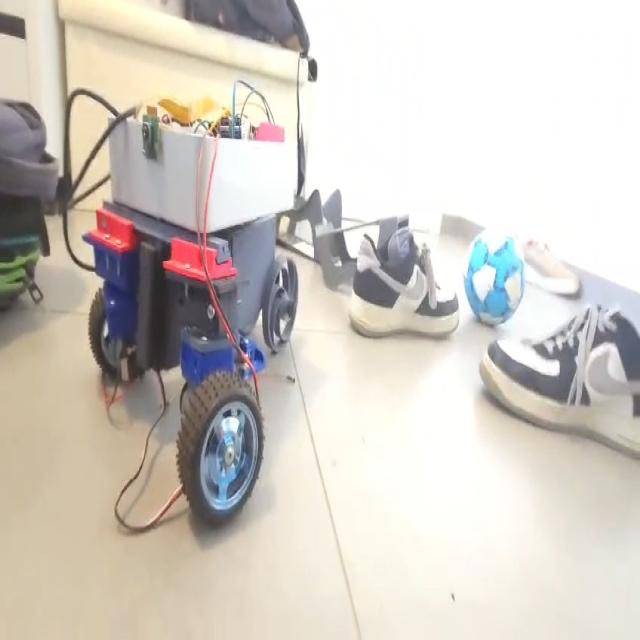Robot: (82, 103, 298, 527)
